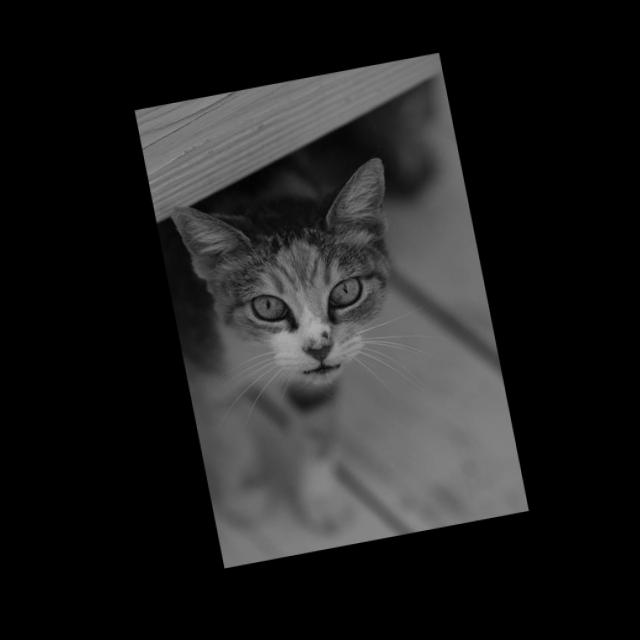animals: (169, 161, 409, 380)
